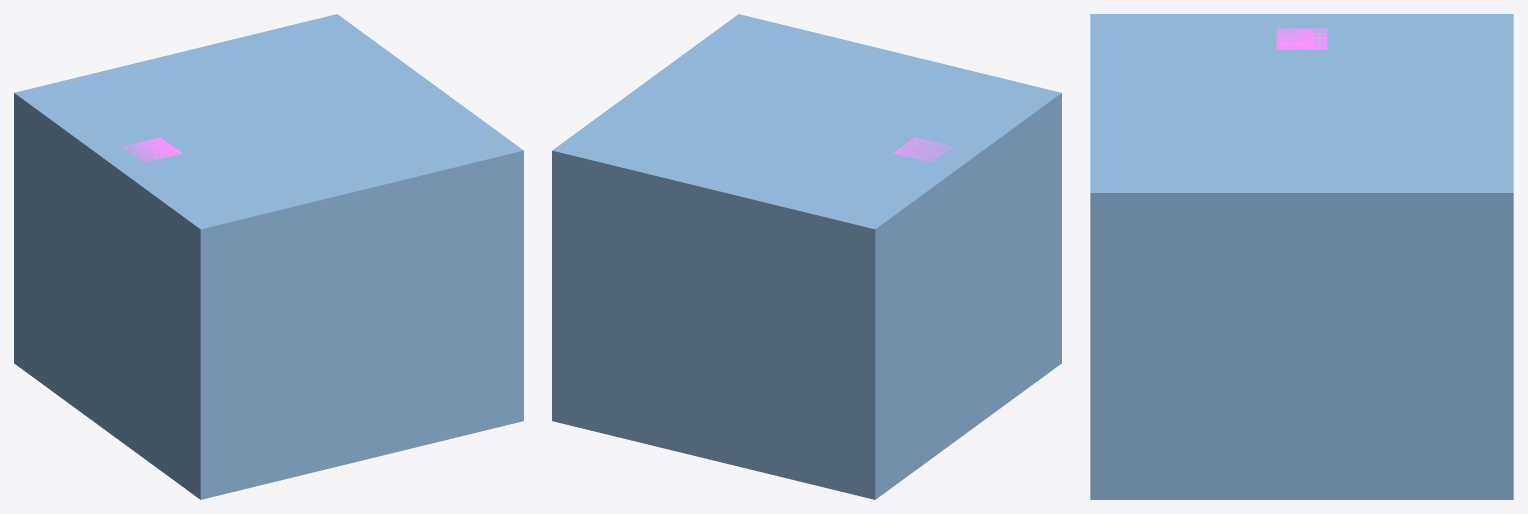
3 renders of one model, left to right at view 1: azimuth 30°, elevation 25°; view 2: azimuth 150°, elevation 25°; view 3: azimuth 270°, elevation 25°, orthographic. The views are drawn at different scales.
Parts seen in each view (by area): view 1: prismCoreOuter, prismCoreShardDetail; view 2: prismCoreOuter, prismCoreShardDetail; view 3: prismCoreOuter, prismCoreShardDetail.
Part boxes in pixels (bbox=[...]): prismCoreOuter: bbox=[14, 14, 523, 499]; prismCoreShardDetail: bbox=[122, 137, 182, 162]; prismCoreOuter: bbox=[552, 14, 1061, 499]; prismCoreShardDetail: bbox=[893, 137, 953, 162]; prismCoreOuter: bbox=[1090, 14, 1513, 499]; prismCoreShardDetail: bbox=[1276, 28, 1327, 49].
Size of the model in its own units: 2.5 by 2 by 2.5.
